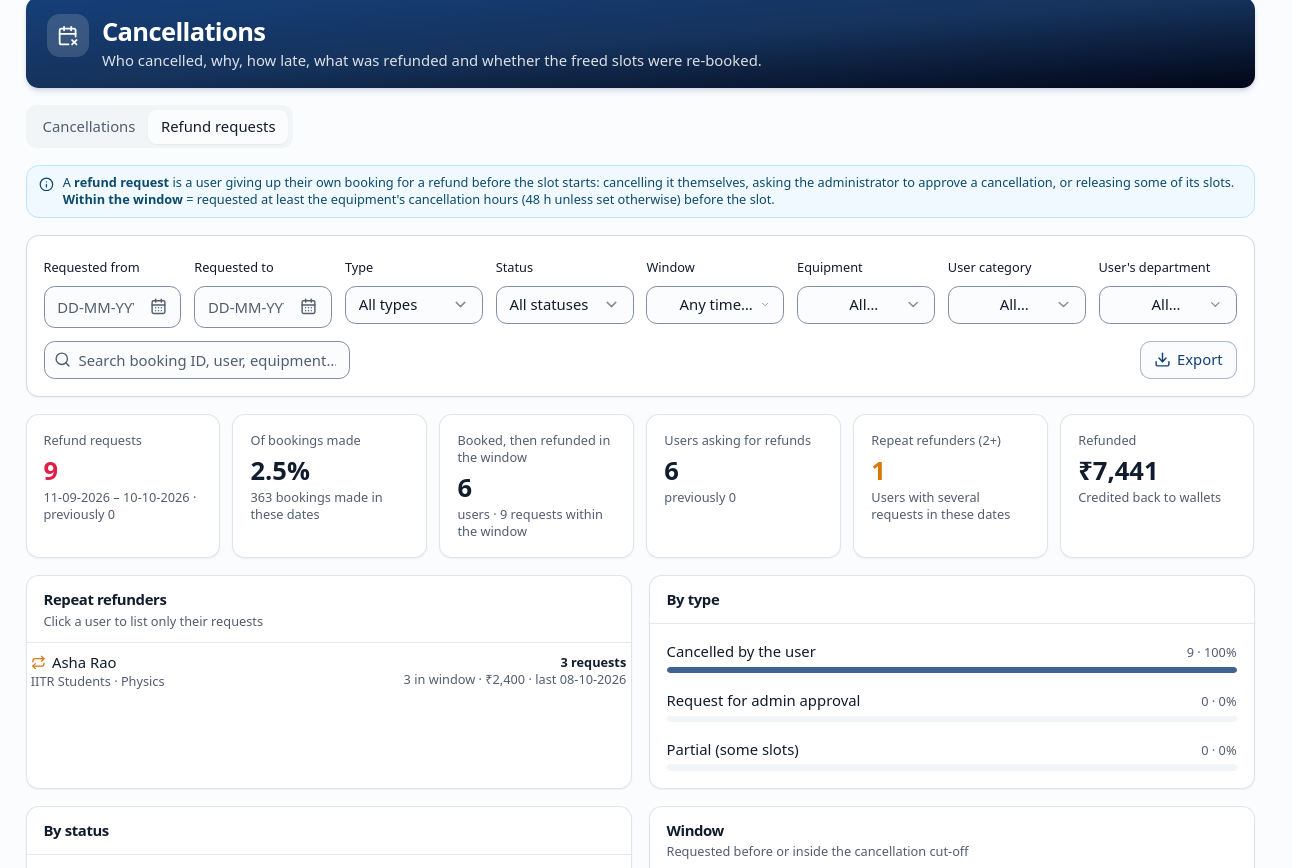
CancellationsDashboard › lists refund requests with the window, wallet credit and repeat refunders
The width and height of the screenshot is (1292, 868).
Expected: the text "2.5%" is shown, [250,453,310,487]
Click the button that starts with "Asha Rao" at (84, 662), box [26,643,630,699]
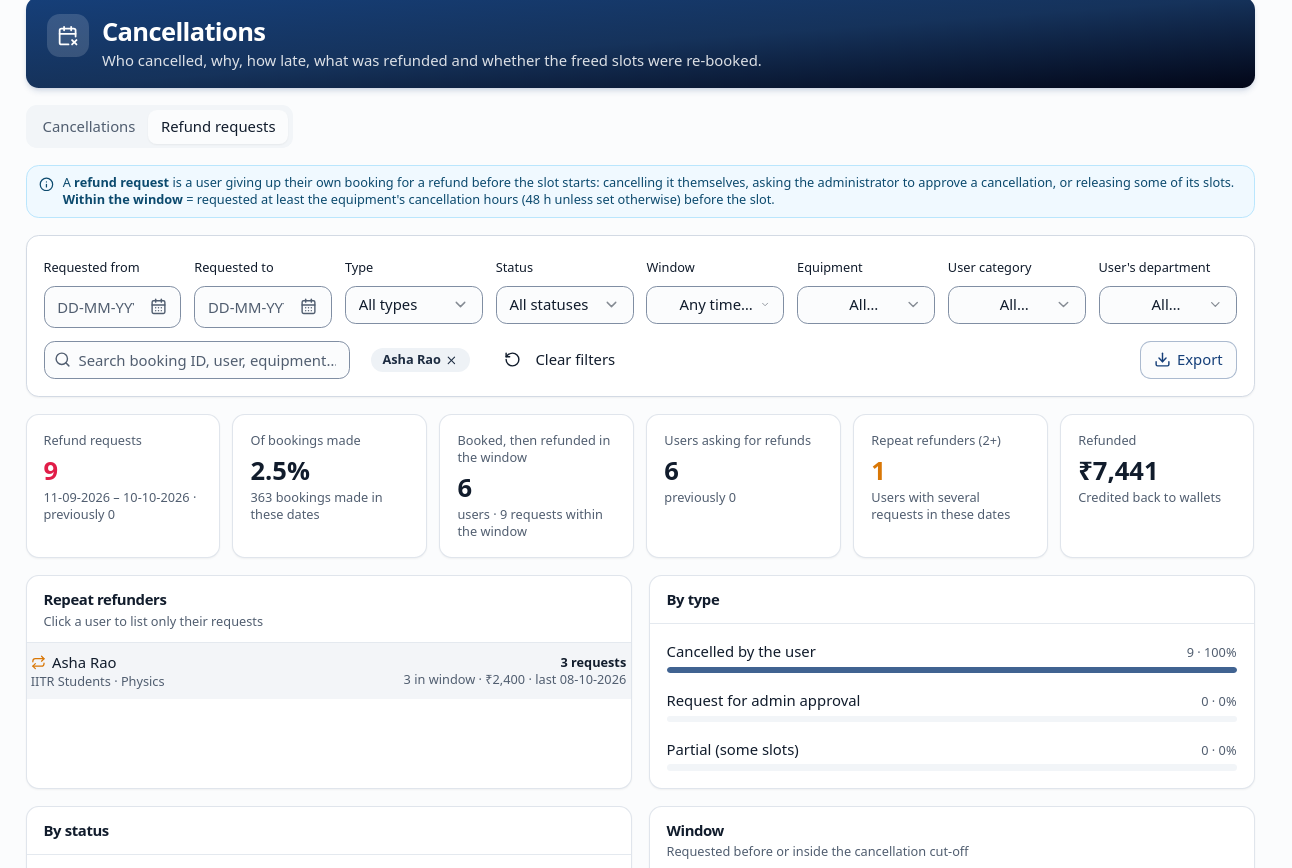
Click the button "Booked, then refunded in the window" at (536, 486), box [439,414,634,558]
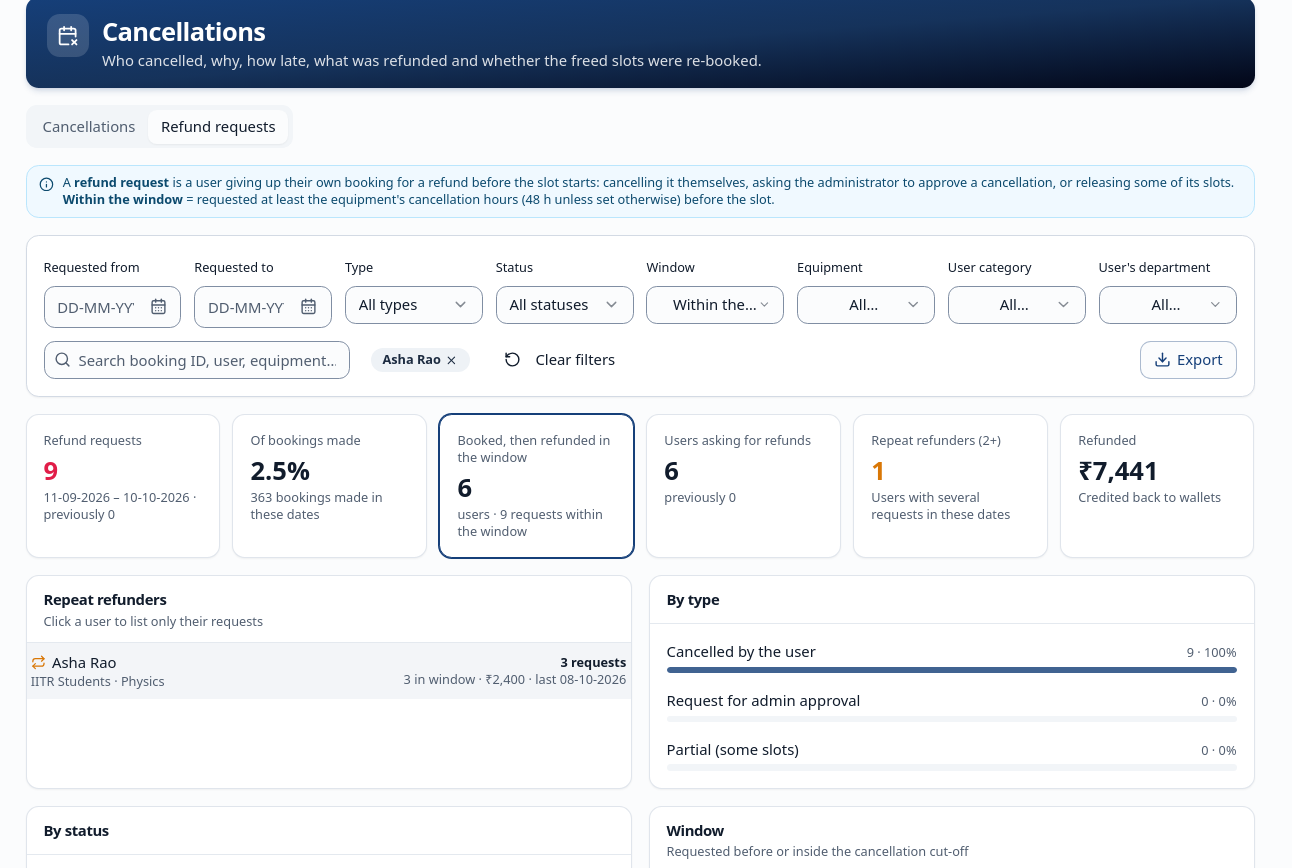
Press the mouse on the tab "Cancellations" at (89, 127), box [30,110,148,144]
(page scrolled)
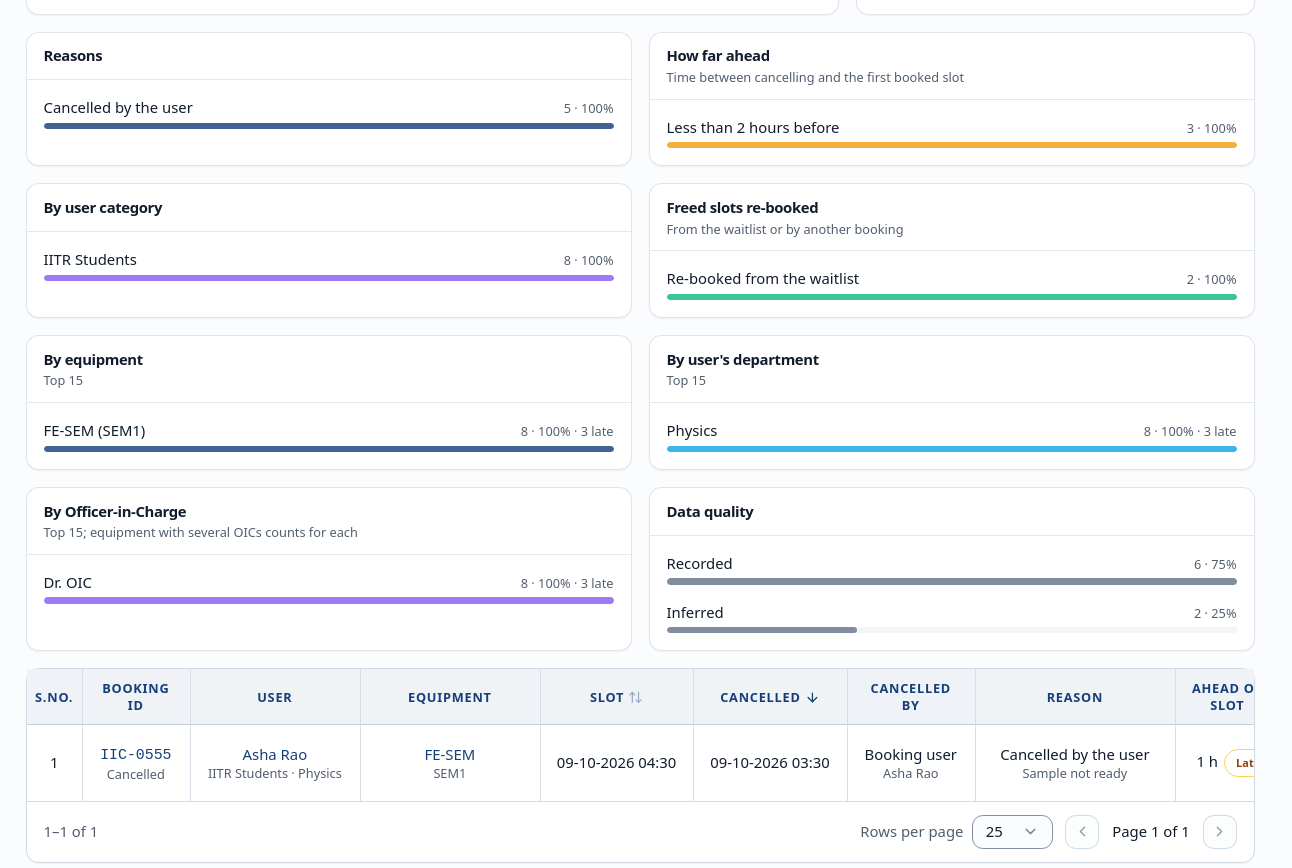
Expected: the element named "Cancellations" is shown, [26,669,1254,801]
